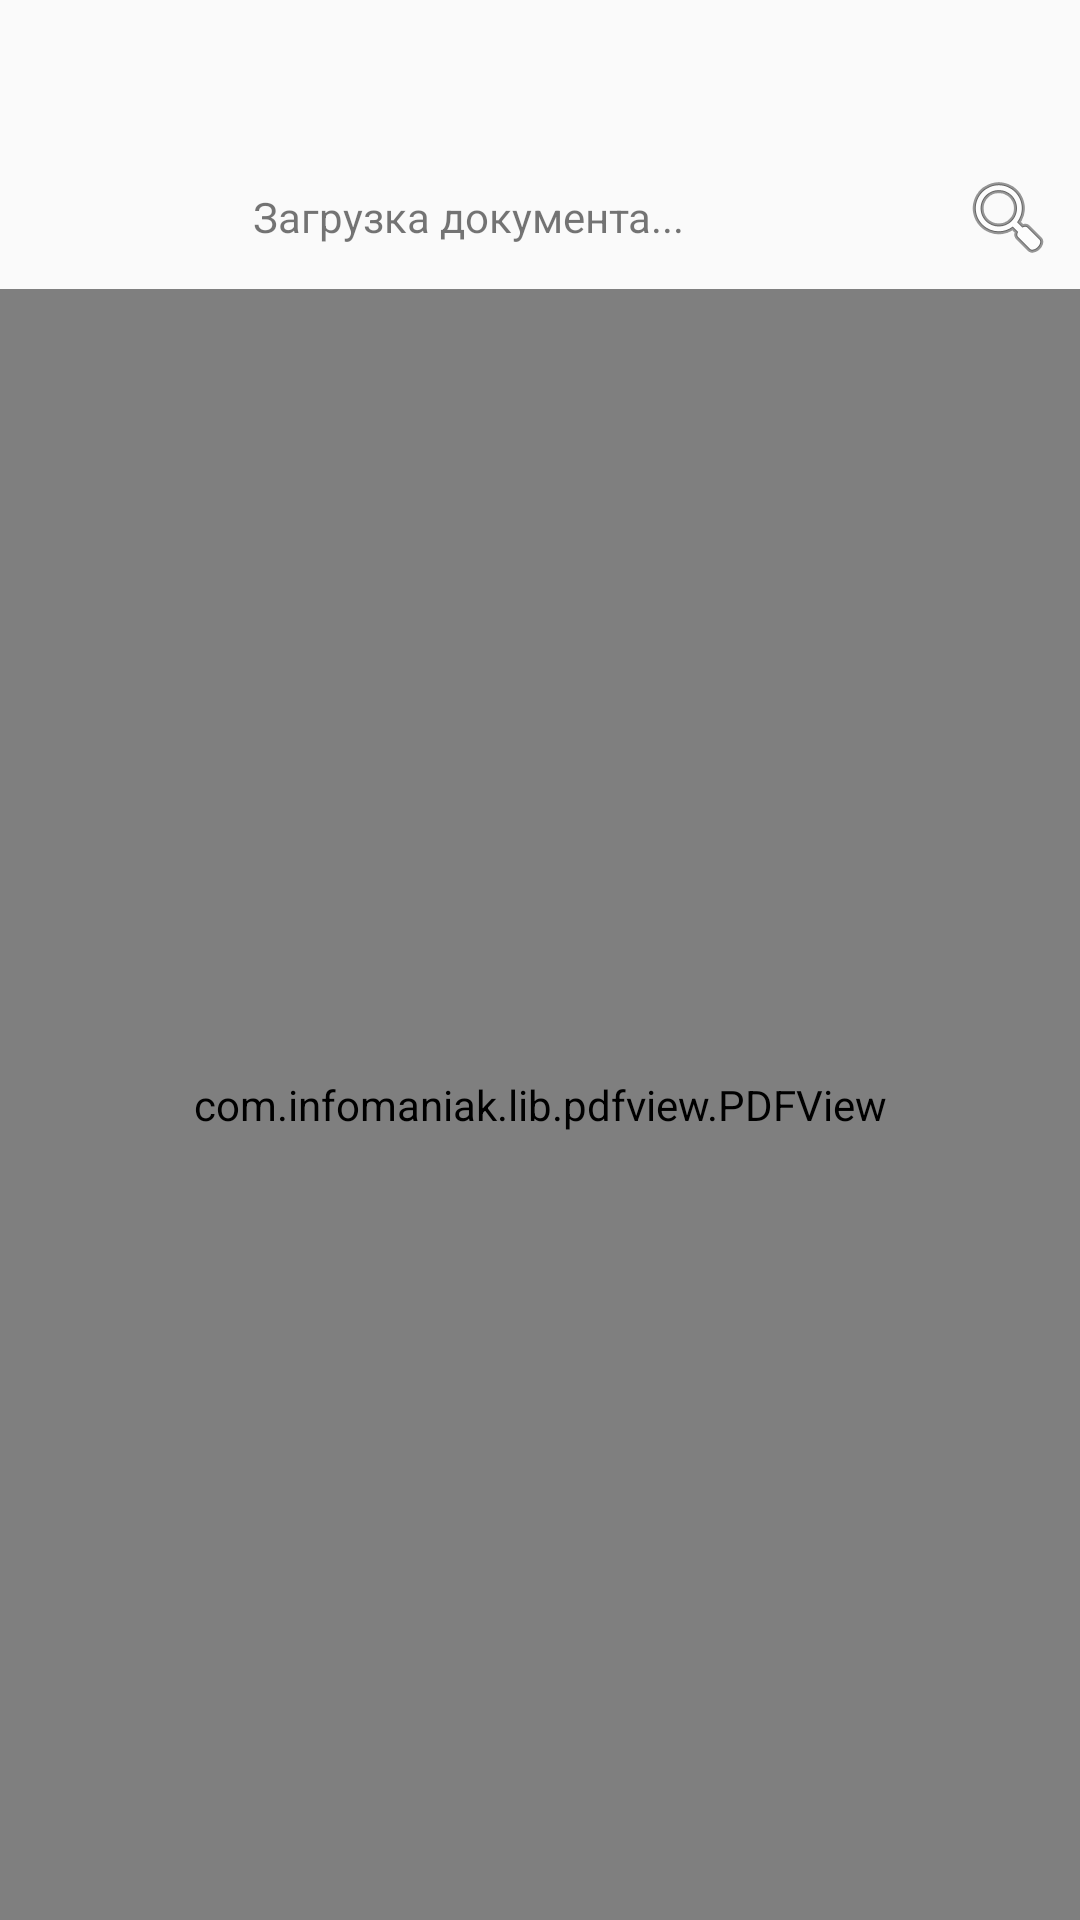

Named icons in this screenshot (1080 x 1920) and their centers, (x,y):
Поиск по документу: (1008,217)
